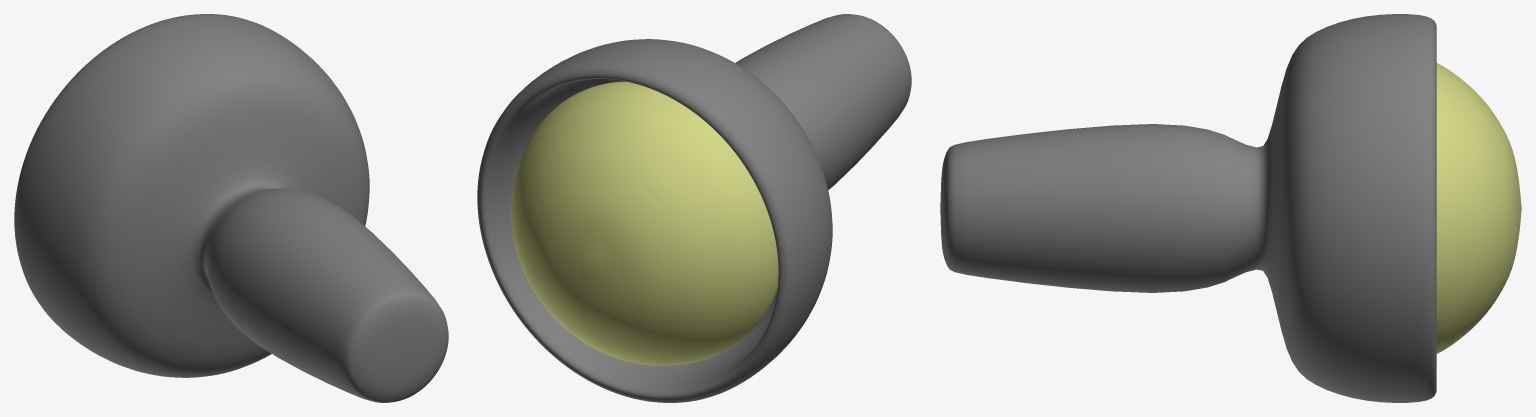
The model's file is flashLight.fbx.
3 views of the same model, side by side, from view 1: azimuth 30°, elevation 25°; view 2: azimuth 150°, elevation 25°; view 3: azimuth 270°, elevation 25° (orthographic). The views are drawn at different scales.
Parts seen in each view (by area): view 1: LightBulb; view 2: LightBulb; view 3: LightBulb.
Part boxes in pixels (box(x1,y1,x2,y2)): LightBulb: box(14, 14, 448, 402); LightBulb: box(477, 14, 911, 402); LightBulb: box(940, 14, 1521, 402).
Bounding box in the file's own units: 244 × 244 × 365.
